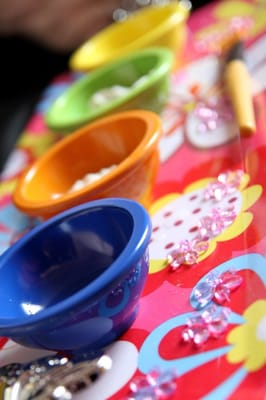pasta: (67, 0, 192, 74)
sushi: (0, 197, 153, 358)
